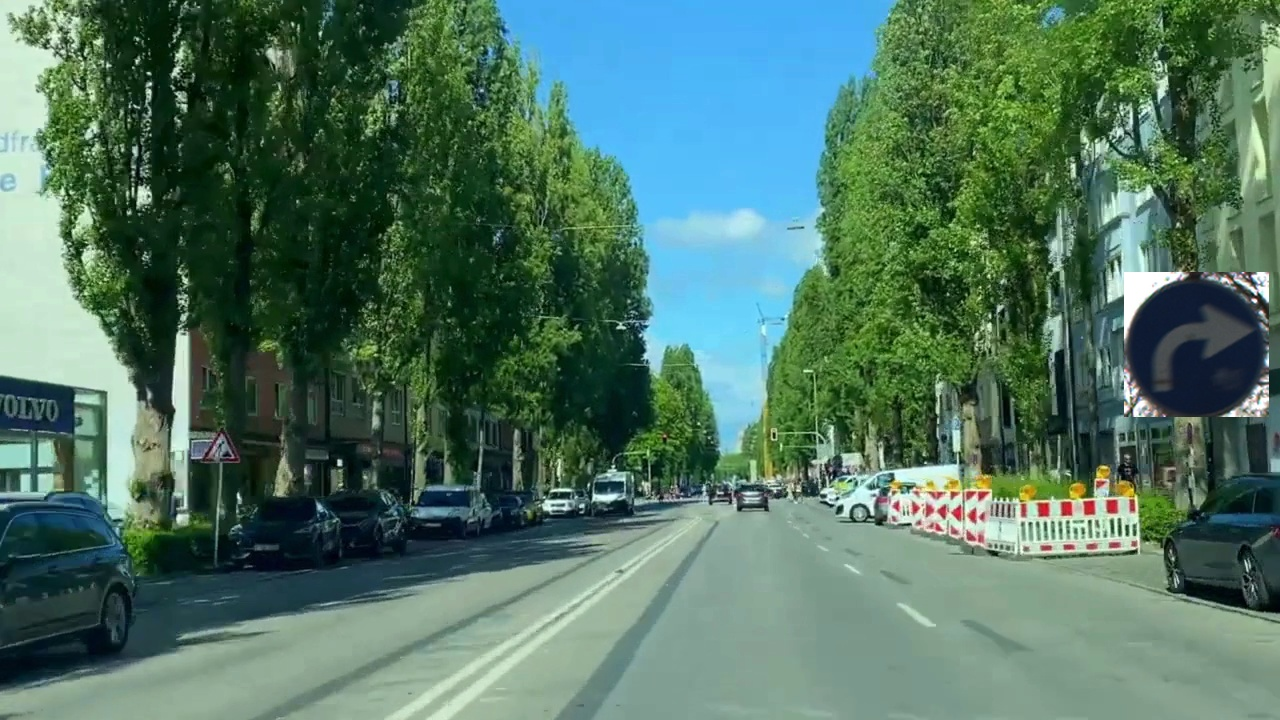Turn right: (1124, 272, 1269, 417)
